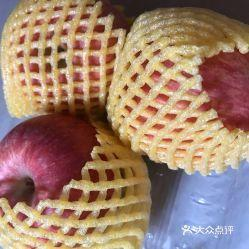apple: (109, 8, 246, 173), (1, 115, 138, 247)
